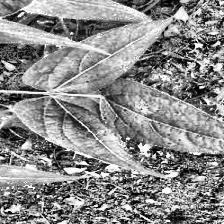ALS: (31, 20, 171, 96), (101, 79, 224, 157), (14, 100, 132, 168)
